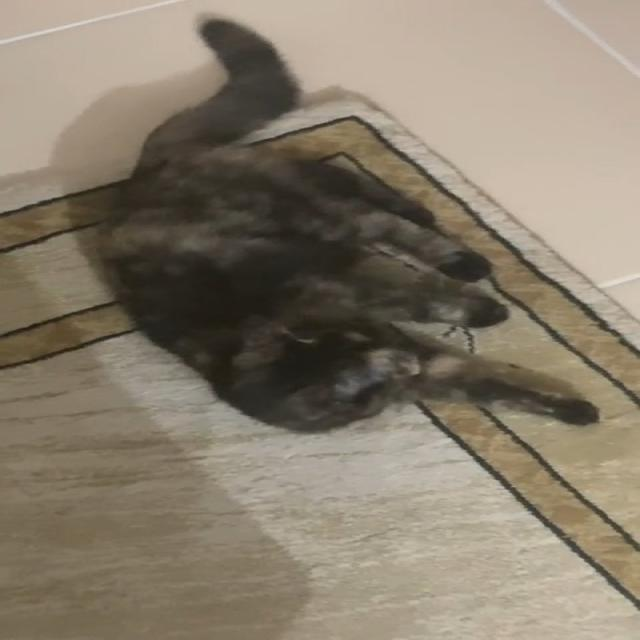authorized: (84, 11, 600, 435)
